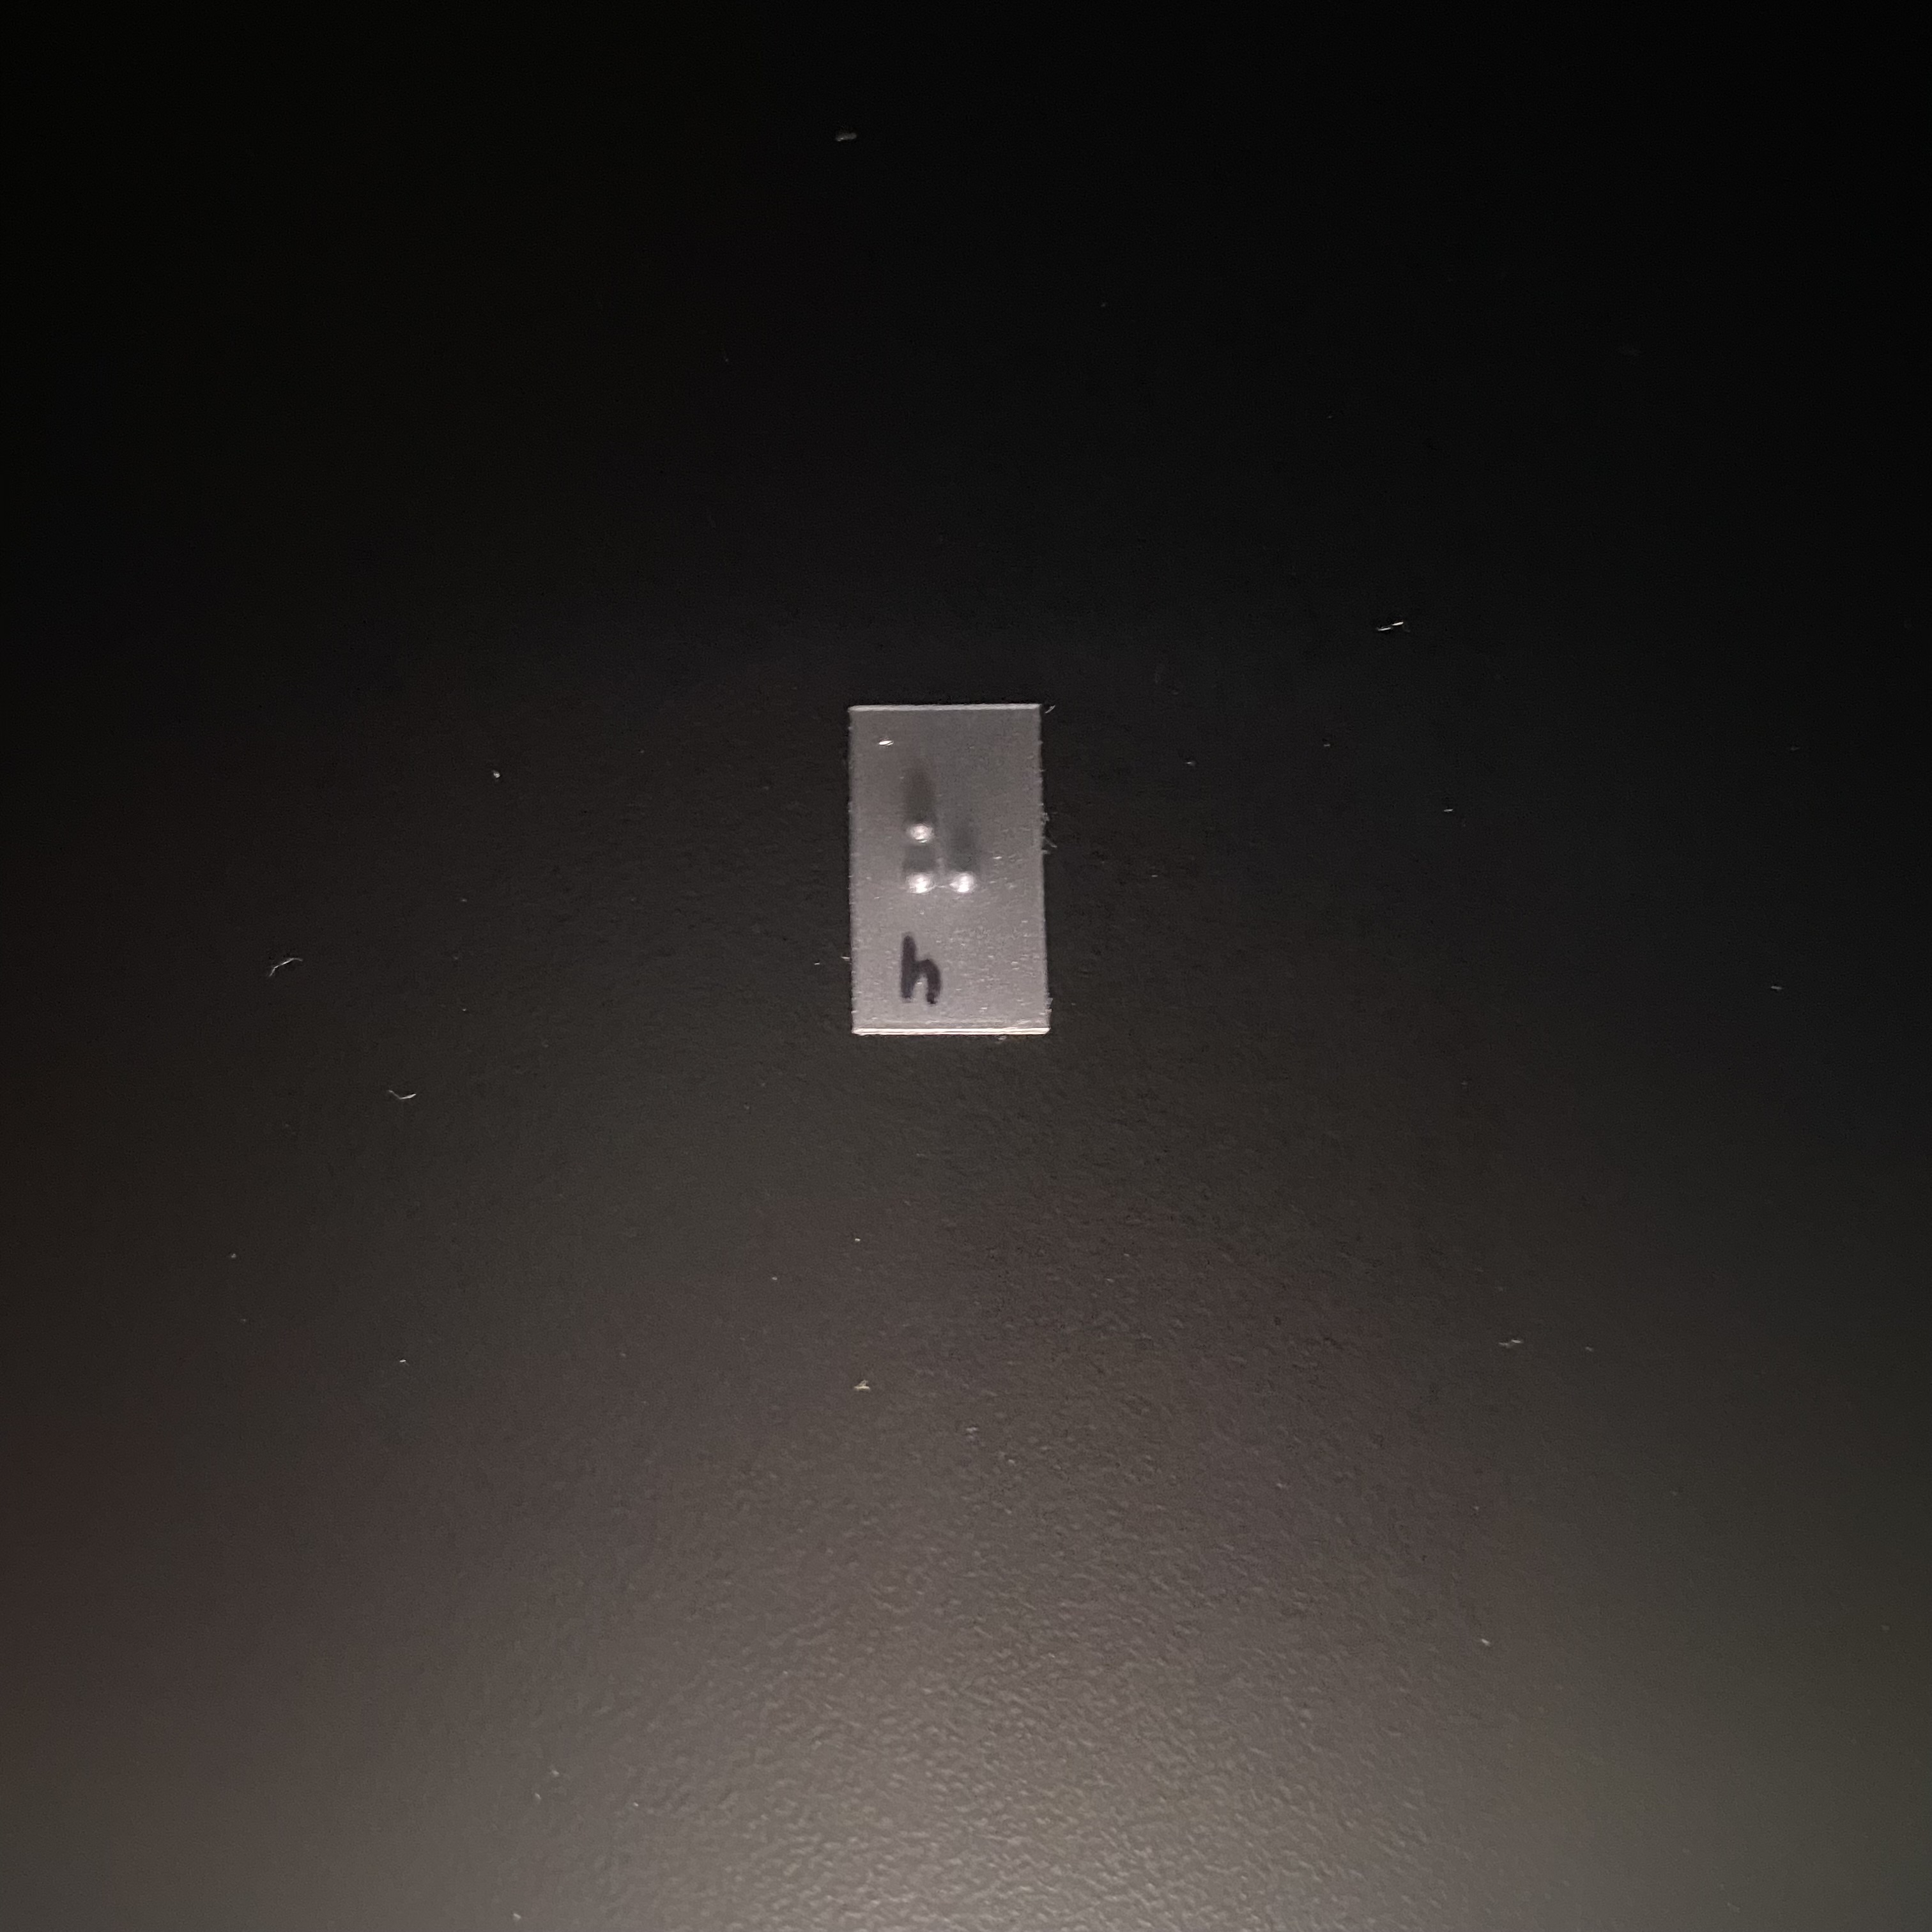h: (893, 779, 996, 958)
